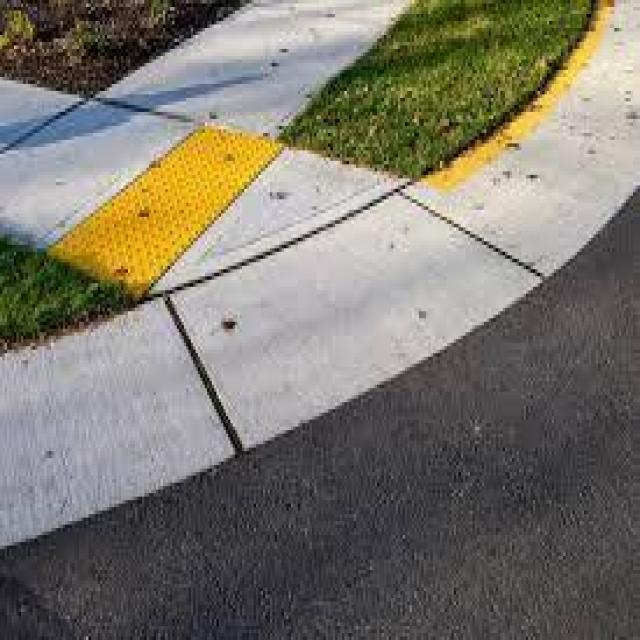curb: (163, 188, 544, 453), (400, 8, 638, 283), (1, 299, 234, 547)
